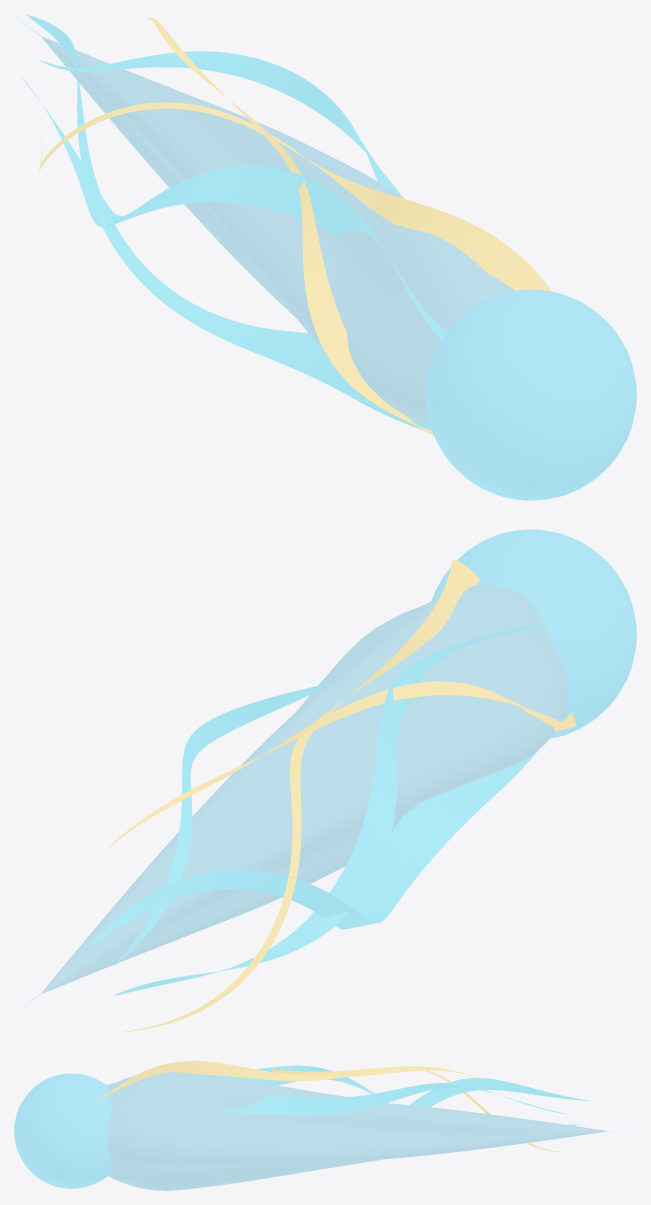
File: Escape_Light_3D.glb
3 renders of one model, top to bottom at view 1: azimuth 30°, elevation 25°; view 2: azimuth 150°, elevation 25°; view 3: azimuth 270°, elevation 25°, orthographic. The views are drawn at different scales.
Visible parts, largest first — view 1: EL_MistVeil, EL_Bubble, EL_CyanRibbon_1, EL_CyanRibbon_0, EL_GoldRibbon_0, EL_GoldRibbon_1, EL_CyanRibbon_2; view 2: EL_MistVeil, EL_Bubble, EL_CyanRibbon_1, EL_CyanRibbon_0, EL_GoldRibbon_0, EL_CyanRibbon_2, EL_GoldRibbon_1; view 3: EL_MistVeil, EL_Bubble, EL_CyanRibbon_2, EL_GoldRibbon_0, EL_CyanRibbon_1, EL_GoldRibbon_1, EL_CyanRibbon_0.
Part boxes in pixels (x1,y1,x2,y2): EL_MistVeil: [42, 37, 514, 422]; EL_Bubble: [425, 289, 636, 500]; EL_CyanRibbon_1: [26, 14, 431, 430]; EL_CyanRibbon_0: [21, 77, 446, 340]; EL_GoldRibbon_0: [39, 102, 551, 291]; EL_GoldRibbon_1: [147, 17, 433, 435]; EL_CyanRibbon_2: [37, 51, 403, 197]; EL_MistVeil: [42, 585, 568, 992]; EL_Bubble: [431, 529, 636, 738]; EL_CyanRibbon_1: [87, 718, 562, 948]; EL_CyanRibbon_0: [112, 619, 565, 996]; EL_GoldRibbon_0: [120, 559, 479, 1032]; EL_CyanRibbon_2: [114, 683, 328, 965]; EL_GoldRibbon_1: [103, 681, 576, 852]; EL_MistVeil: [107, 1072, 605, 1190]; EL_Bubble: [14, 1073, 111, 1188]; EL_CyanRibbon_2: [110, 1083, 568, 1117]; EL_GoldRibbon_0: [102, 1061, 561, 1151]; EL_CyanRibbon_1: [409, 1078, 589, 1107]; EL_GoldRibbon_1: [255, 1066, 508, 1092]; EL_CyanRibbon_0: [107, 1065, 578, 1125].
Bounding box in the file's own units: 2.89 × 2.74 × 12.73.
